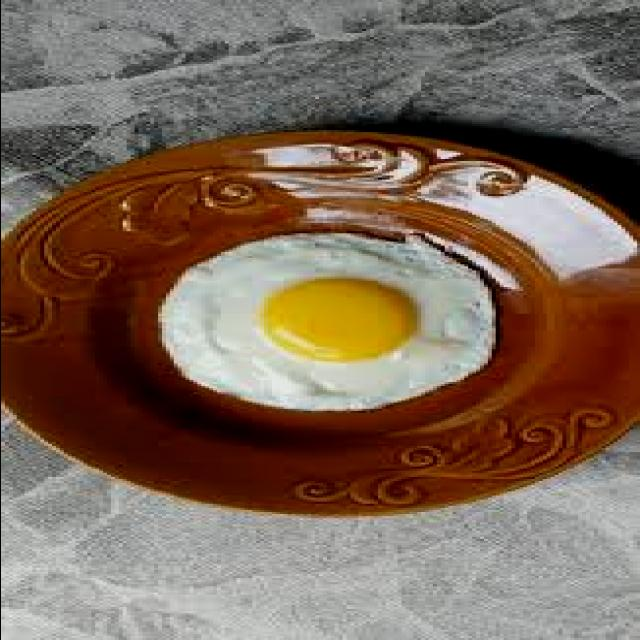telur ceplok: (157, 233, 495, 413)
